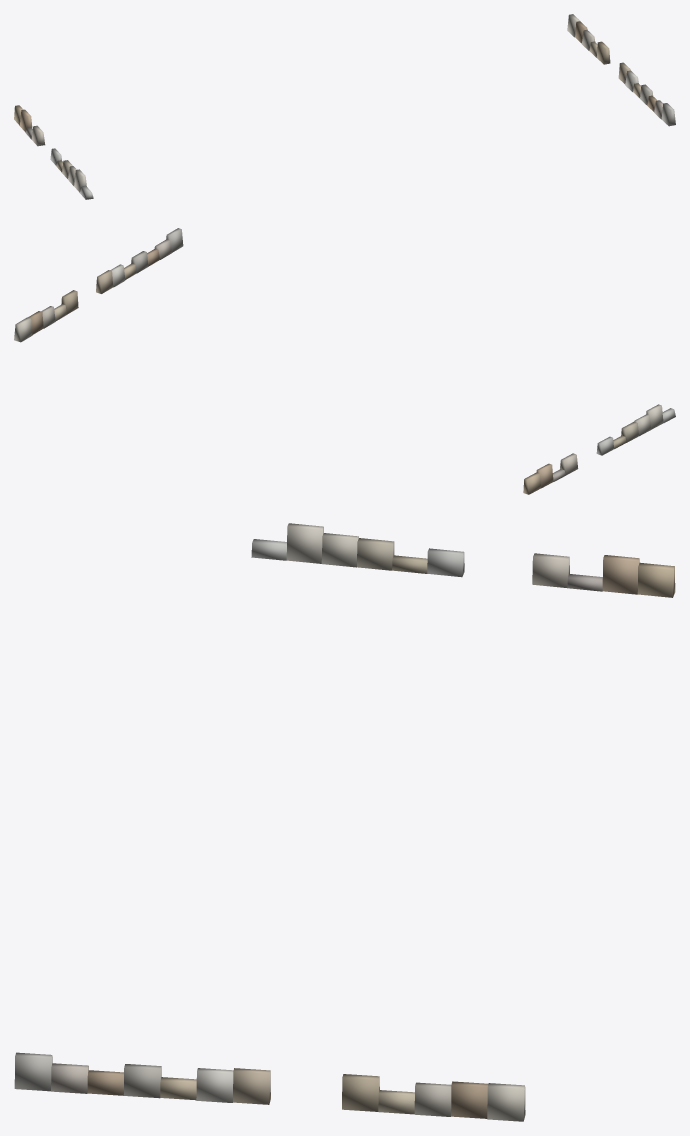
The model's file is farm_31_24_collision.glb.
3 renders of one model, top to bottom at view 1: azimuth 30°, elevation 25°; view 2: azimuth 150°, elevation 25°; view 3: azimuth 270°, elevation 25°, orthographic. The views are drawn at different scales.
Parts seen in each view (by area): view 1: geometry_0; view 2: geometry_0; view 3: geometry_0.
Boxes of the visible parts, <box> form: geometry_0: <box>14,14,675,199</box>; geometry_0: <box>14,228,675,494</box>; geometry_0: <box>14,523,675,1121</box>.
Bounding box in the file's own units: 55.73 × 2.89 × 28.66.
